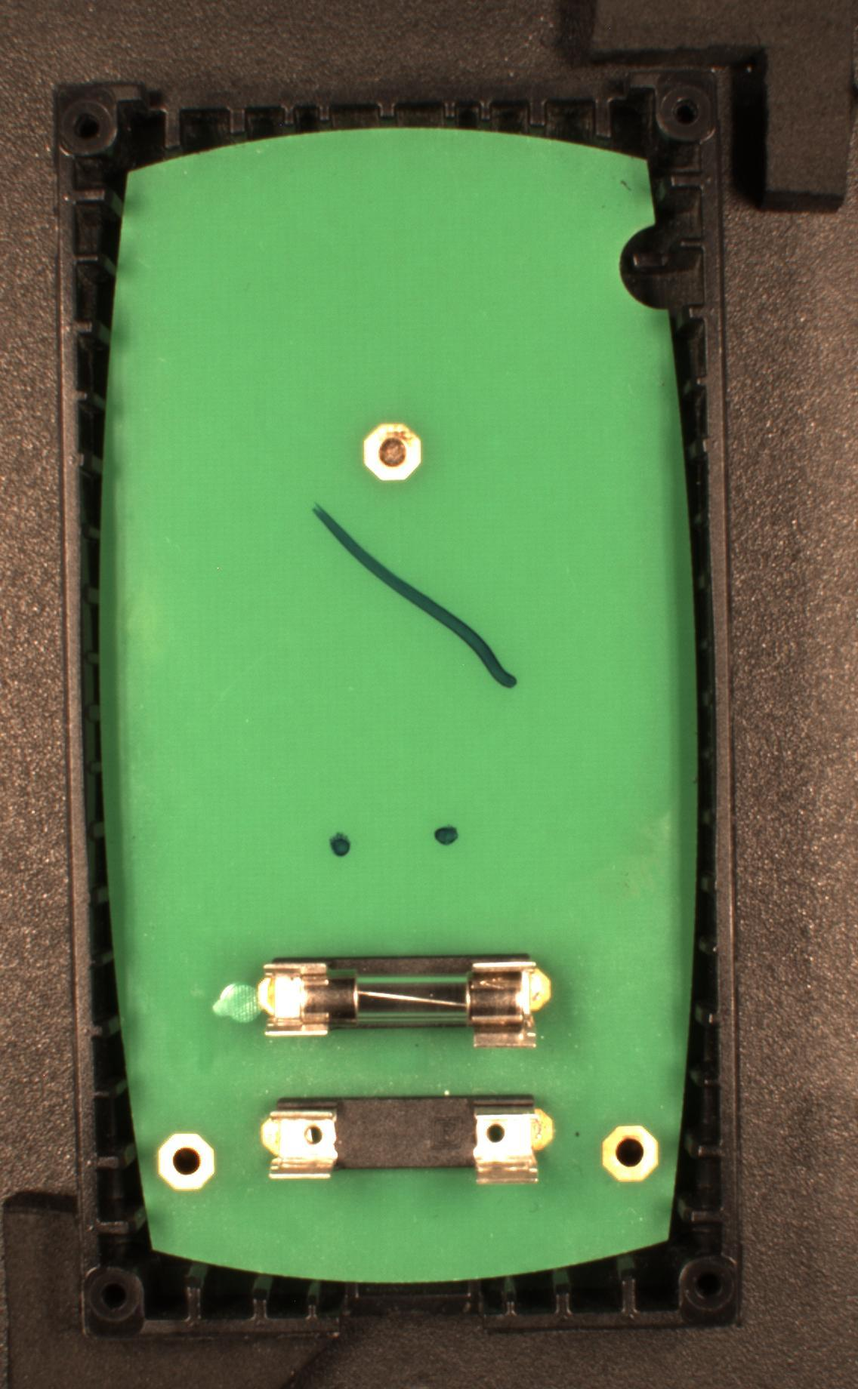Linijsko Ostecene: (309, 503, 519, 690)
Nepostojanje osiguraca: (258, 1093, 558, 1188)
Tockasto Ostecenje: (432, 824, 460, 848), (329, 831, 352, 858)
